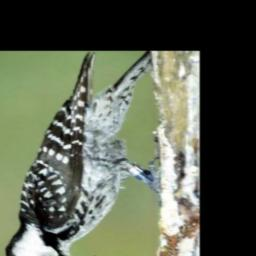Woodpecker: (6, 52, 162, 256)
